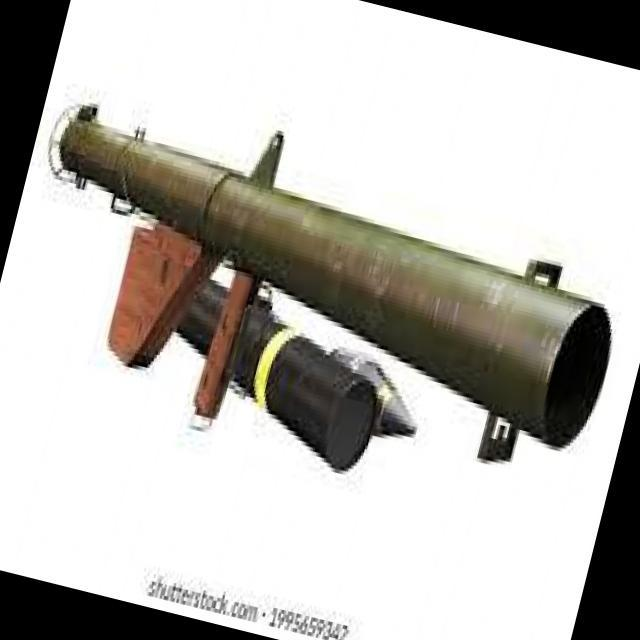rocket: (0, 84, 640, 519)
